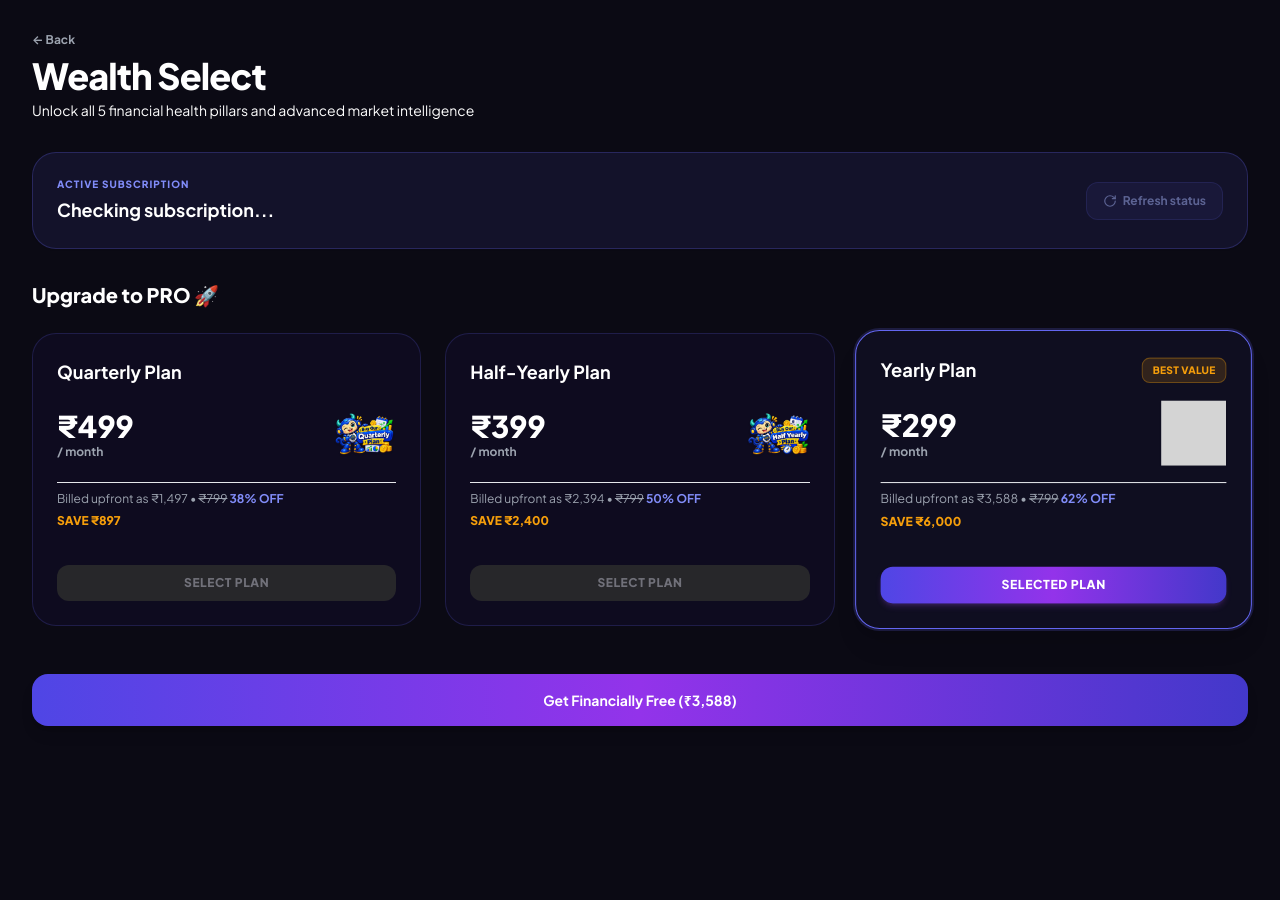
Test: Subscription Purchase & Realtime Sync Tests › 1. Updates CTA text per selected plan (Quarterly, Half-Yearly, Yearly)
This screenshot has width=1280, height=900.
Expected: the heading "Wealth Select" is shown, [32, 53, 266, 98]
Expected: the button with test id "buy-plan-btn" reads "Get Financially Free (₹3,588)", [32, 674, 1248, 726]
Click the element with test id "sub-plan-card-3". click: (227, 480)
box: [32, 333, 421, 626]
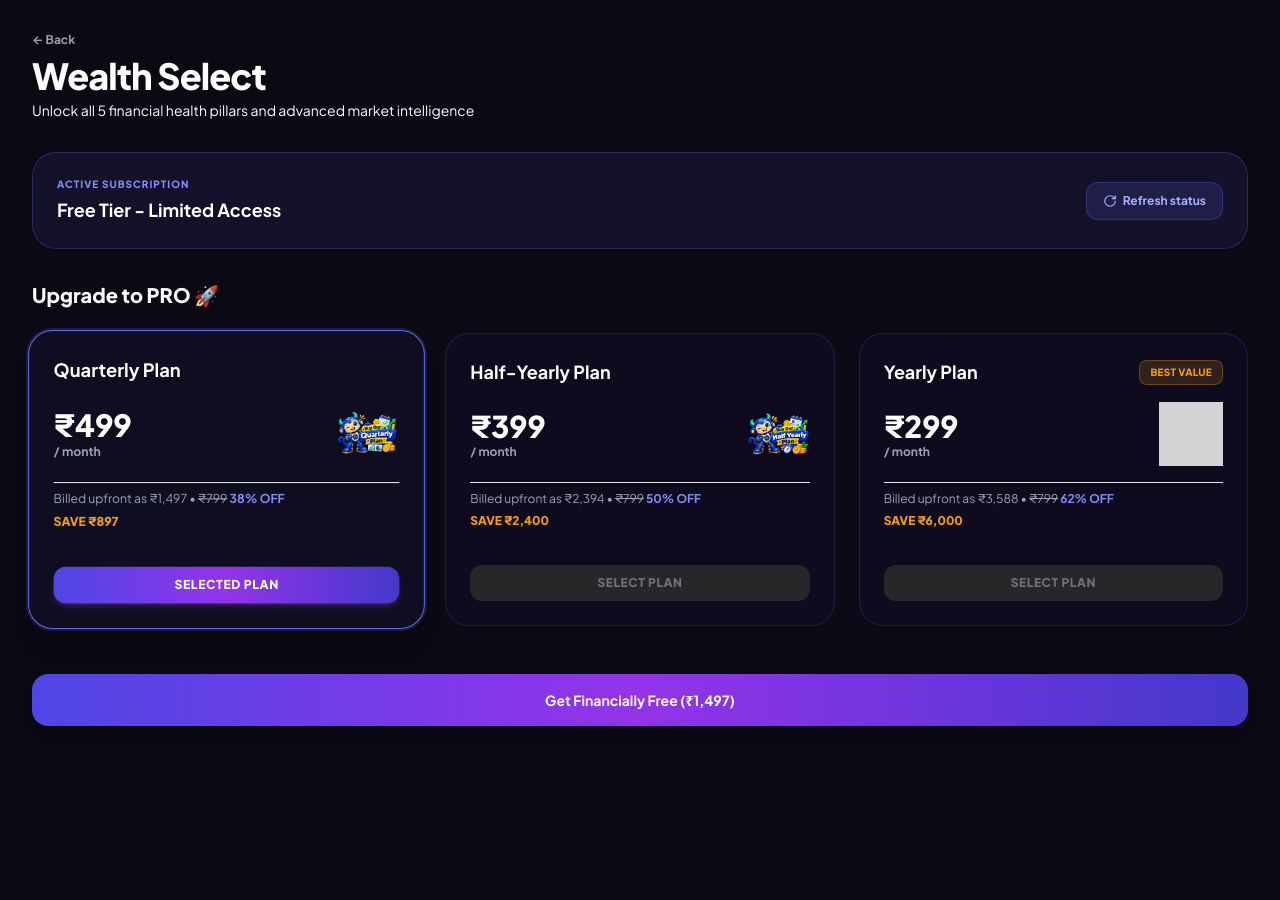
Expected: the button with test id "buy-plan-btn" reads "Get Financially Free (₹1,497)", [32, 674, 1248, 726]
Click the element with test id "sub-plan-card-6". click: (640, 480)
box: [445, 333, 835, 626]
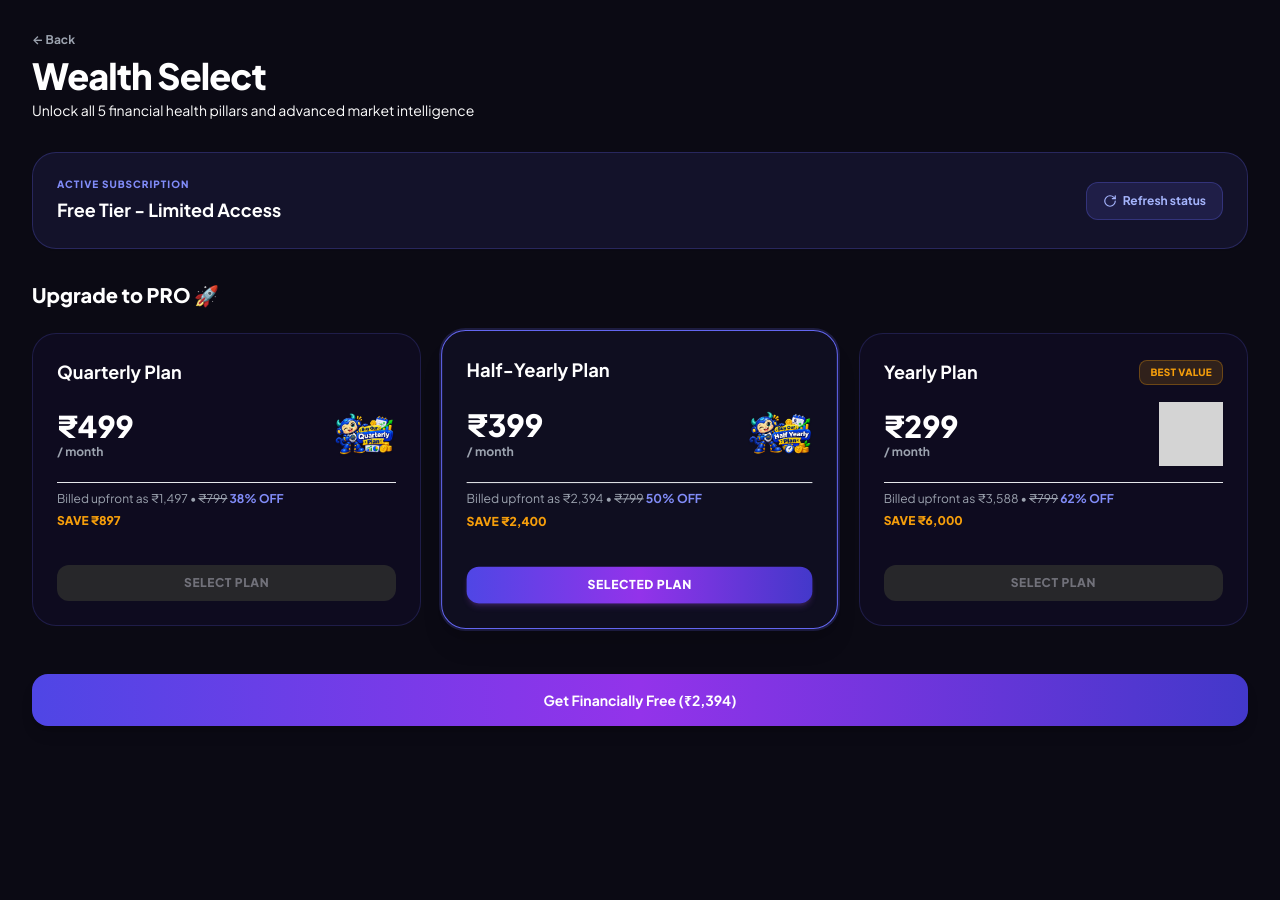
Expected: the button with test id "buy-plan-btn" reads "Get Financially Free (₹2,394)", [32, 674, 1248, 726]
Click the element with test id "sub-plan-card-12". click: (1053, 480)
box: [859, 333, 1248, 626]
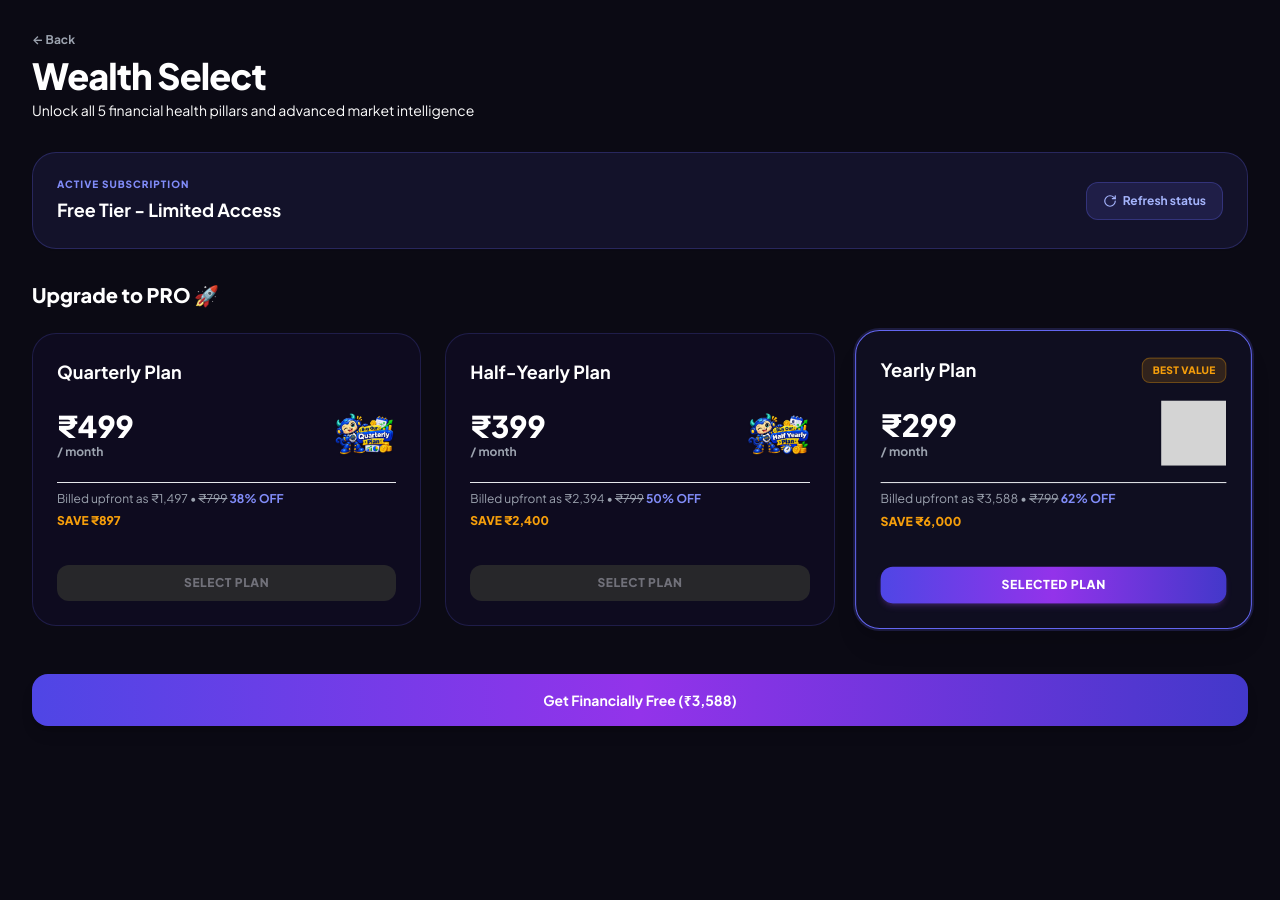
Expected: the button with test id "buy-plan-btn" reads "Get Financially Free (₹3,588)", [32, 674, 1248, 726]
